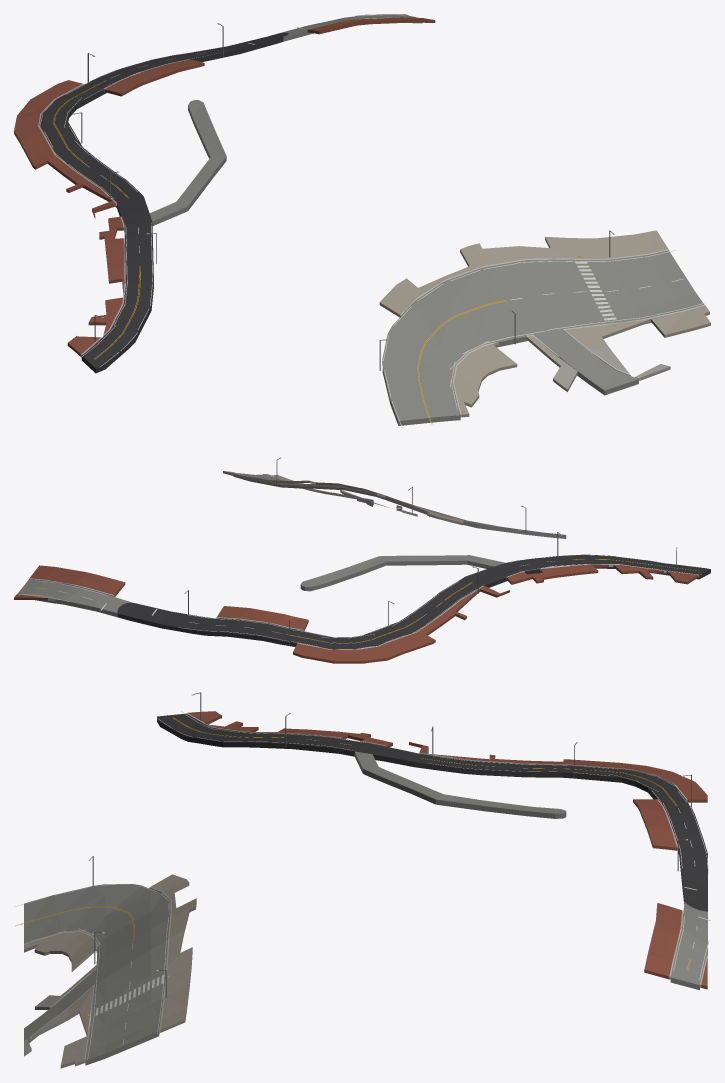
3 renders of one model, top to bottom at view 1: azimuth 30°, elevation 25°; view 2: azimuth 150°, elevation 25°; view 3: azimuth 270°, elevation 25°, orthographic. The views are drawn at different scales.
Size of the model in its own units: 150 by 37.77 by 149.
